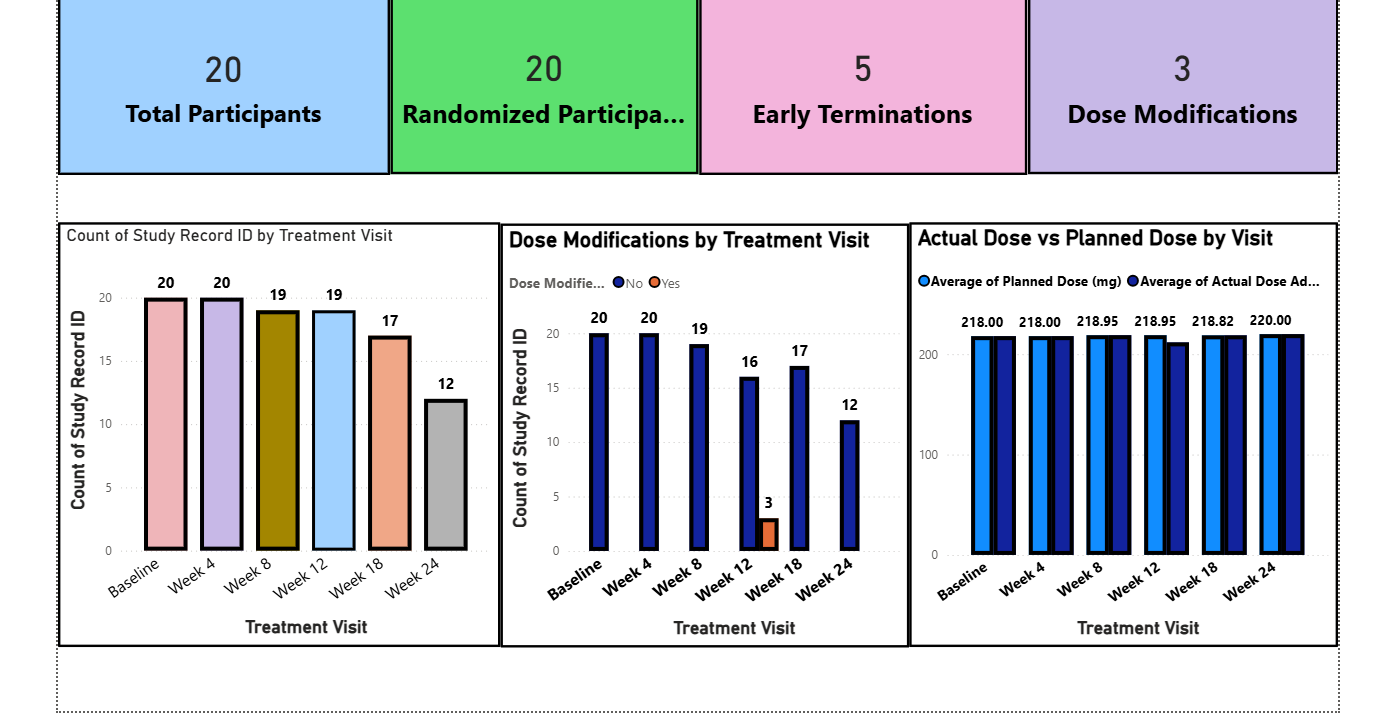

The page's visual inventory and layout, read from the dashboard file:
{"tool":"powerbi","page":{"name":"Clinical Operations Dashboard","canvas":[1280,720],"ordinal":3},"visuals":[{"type":"card","fields":{"Values":["ClinicalData.Total Partcpnts"]},"box":[0,0,332.3,183.7],"z":0},{"type":"card","fields":{"Values":["ClinicalData.Dose Modifications"]},"box":[969.7,0,310.6,183.4],"z":1000},{"type":"card","fields":{"Values":["ClinicalData.Randomized Participants"]},"box":[332.6,0,308.2,183.4],"z":2000},{"type":"card","fields":{"Values":["ClinicalData.Early Terminations"]},"box":[641.3,0,327.9,183.7],"z":3000},{"type":"clusteredColumnChart","fields":{"Y":["Count(ClinicalData.Study Record ID)"],"Category":["VisitOrder.Treatment Visit"]},"box":[0,231.2,442.5,425],"z":4000},{"type":"clusteredColumnChart","title":"Dose Modifications by Treatment Visit","fields":{"Y":["Count(ClinicalData.Study Record ID)"],"Series":["ClinicalData.Dose Modified?"],"Category":["VisitOrder.Treatment Visit"]},"box":[442.5,232.5,408.8,423.8],"z":5000},{"type":"clusteredColumnChart","title":"Actual Dose vs Planned Dose by Visit","fields":{"Y":["Avg(ClinicalData.Planned Dose (mg))","Avg(ClinicalData.Actual Dose Administered (mg))"],"Category":["VisitOrder.Treatment Visit"]},"box":[851.2,231.2,428.8,425],"z":6000}]}

Visuals, with their boxes on the page's 1280x720 design canvas (x1, y1, x2, y2). These are canvas units, not pixel positions in the 1390x717 screenshot, which may show the page scaled, cropped or inside an application window:
card - ClinicalData.Total Partcpnts: l=0, t=0, r=332, b=184
card - ClinicalData.Dose Modifications: l=970, t=0, r=1280, b=183
card - ClinicalData.Randomized Participants: l=333, t=0, r=641, b=183
card - ClinicalData.Early Terminations: l=641, t=0, r=969, b=184
clusteredColumnChart - Count(ClinicalData.Study Record ID) x VisitOrder.Treatment Visit: l=0, t=231, r=442, b=656
"Dose Modifications by Treatment Visit" clusteredColumnChart: l=442, t=232, r=851, b=656
"Actual Dose vs Planned Dose by Visit" clusteredColumnChart: l=851, t=231, r=1280, b=656
